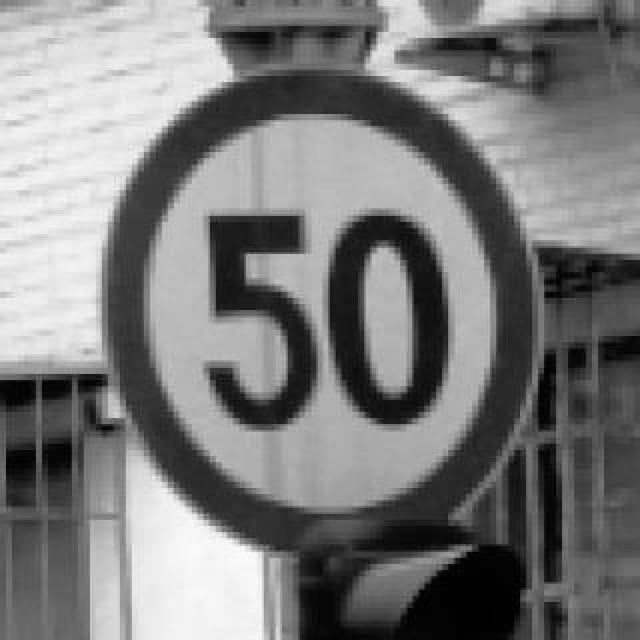50 kph: (96, 58, 538, 552)
